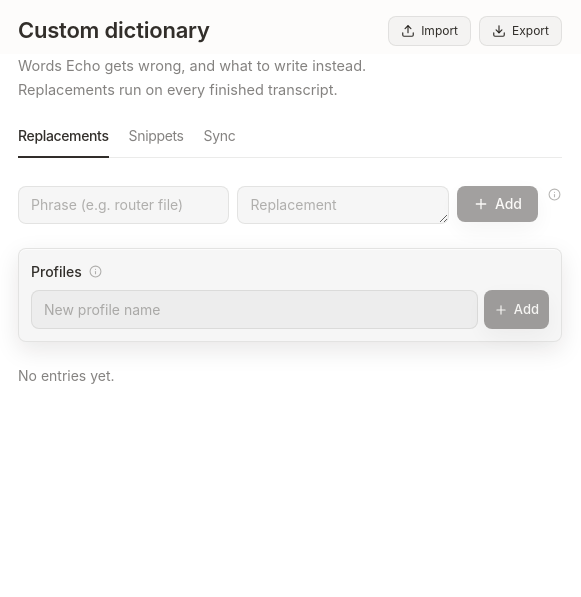
Test: the other panels › opens the snippets section and shows a saved snippet
Step 1. Click the button "Snippets" → coordinates (156, 142), box [129,125,184,158]
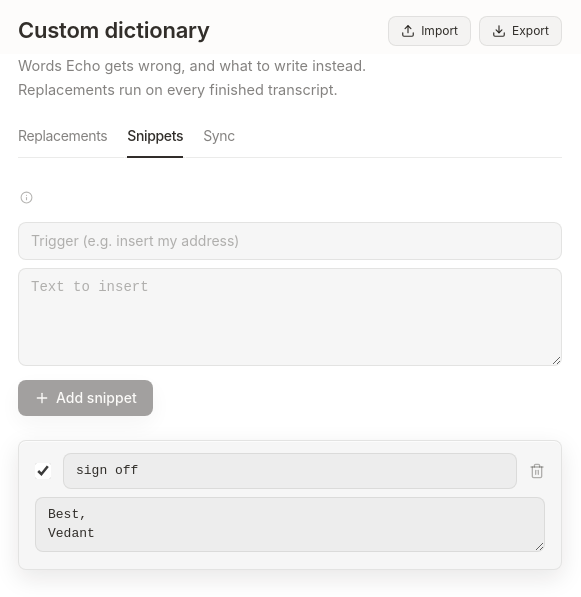
Check: the field showing "sign off" is shown, box [63,453,517,489]
Check: the button "Add snippet" is shown, box [18,380,153,416]
